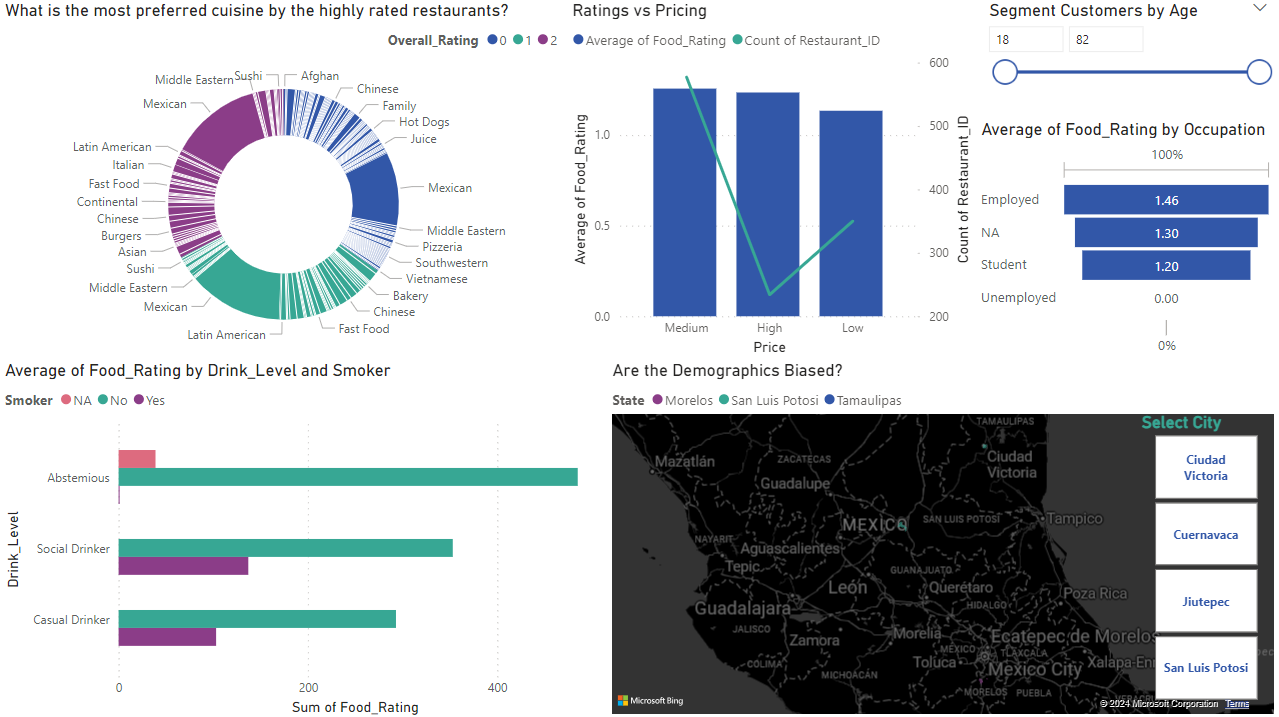

Layout of this report page (visuals, bound fields, positions):
{"tool":"powerbi","page":{"name":"Dashboard","canvas":[1280,720],"ordinal":4},"visuals":[{"type":"funnel","fields":{"Category":["consumers.Occupation"],"Y":["Avg(ratings.Food_Rating)"]},"box":[976.2,118.8,302.5,241.2],"z":0},{"type":"clusteredBarChart","title":"Average of Food_Rating by Drink_Level and Smoker","fields":{"Category":["consumers.Drink_Level"],"Series":["consumers.Smoker"],"Y":["Sum(ratings.Food_Rating)"]},"box":[0,360,607.1,360],"z":1000},{"type":"filledMap","title":"Are the Demographics Biased?","fields":{"Y":["Avg(consumers.Latitude)"],"X":["Avg(consumers.Longitude)"],"Category":["consumers.City"],"Series":["restaurants.State"]},"box":[607.5,360,671.2,360],"z":2000,"group":"g1"},{"type":"donutChart","title":"What is the most preferred cuisine by the highly rated restaurants?","fields":{"Category":["ratings.Overall_Rating"],"Series":["consumer_preferences.Preferred_Cuisine"],"Y":["CountNonNull(consumer_preferences.Preferred_Cuisine)"]},"box":[0,0,567.5,360],"z":3000},{"type":"slicer","fields":{"Values":["consumers.Age"]},"box":[976.2,0,303.8,148.8],"z":4000},{"type":"lineStackedColumnComboChart","title":"Ratings vs Pricing","fields":{"Category":["restaurants.Price"],"Y":["Avg(ratings.Food_Rating)"],"Y2":["CountNonNull(ratings.Restaurant_ID)"]},"box":[567.5,0,408.8,360],"z":5000},{"type":"slicer","fields":{"Values":["restaurants.City"]},"box":[1128.1,407.5,152.5,298.8],"z":6000,"group":"g1"},{"type":"group","id":"g1","title":"Group 1","box":[607.5,360,673.1,360],"z":6001}]}

Visuals, with their boxes in screenshot pixels (x1, y1, x2, y2), scaled from the page's 1280x720 canvas onto the 1279x717 screenshot:
funnel - consumers.Occupation x Avg(ratings.Food_Rating): detection(975, 118, 1278, 358)
"Average of Food_Rating by Drink_Level and Smoker" clusteredBarChart: detection(0, 358, 607, 716)
"Are the Demographics Biased?" filledMap: detection(607, 358, 1278, 716)
"What is the most preferred cuisine by the highly rated restaurants?" donutChart: detection(0, 0, 567, 358)
slicer - consumers.Age: detection(975, 0, 1278, 148)
"Ratings vs Pricing" lineStackedColumnComboChart: detection(567, 0, 976, 358)
slicer - restaurants.City: detection(1127, 406, 1278, 703)
"Group 1" group: detection(607, 358, 1278, 716)
